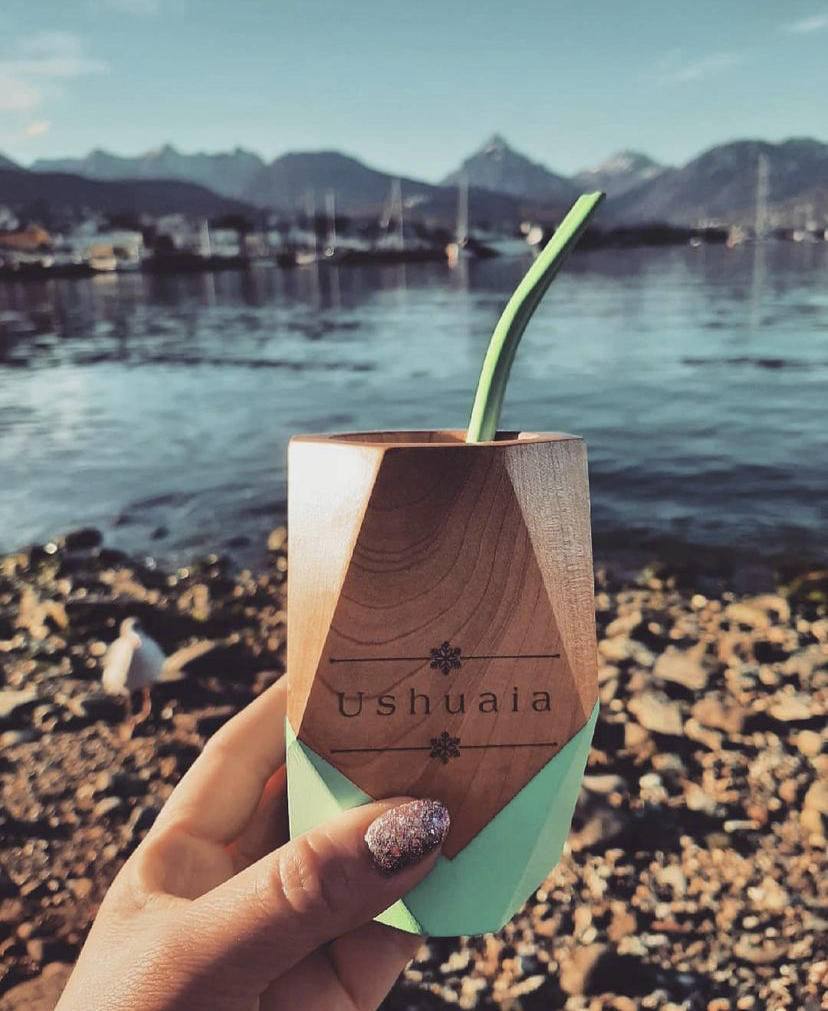madera: (258, 410, 600, 949)
mate: (245, 159, 613, 957)
